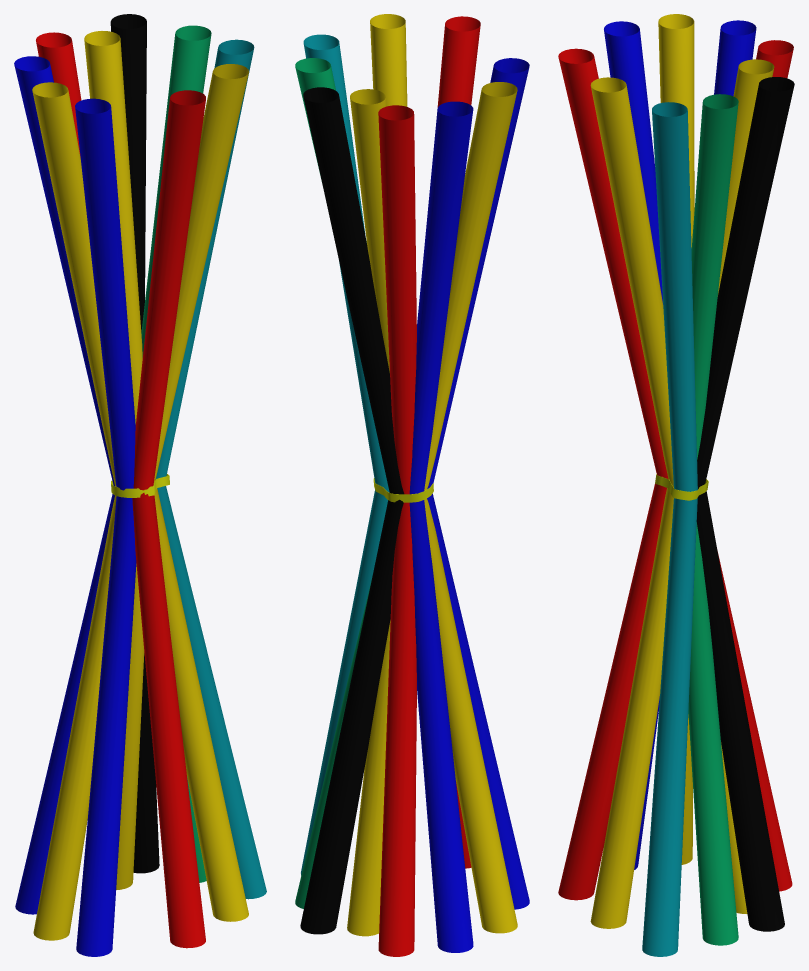
The model's file is Straw.fbx.
3 views of the same model, side by side, from view 1: azimuth 30°, elevation 25°; view 2: azimuth 150°, elevation 25°; view 3: azimuth 270°, elevation 25° (orthographic).
Parts seen in each view (by area): view 1: pCylinder1, pCylinder6, pCylinder2, pCylinder5, pCylinder10, pCylinder9, pCylinder7, pCylinder8, pCylinder3, pCylinder4, pPipe1; view 2: pCylinder7, pCylinder8, pCylinder4, pCylinder5, pCylinder10, pCylinder6, pCylinder9, pCylinder1, pCylinder3, pCylinder2, pPipe1; view 3: pCylinder9, pCylinder8, pCylinder2, pCylinder3, pCylinder1, pCylinder6, pCylinder5, pCylinder10, pCylinder4, pCylinder7, pPipe1.
Part boxes in pixels (bbox=[...]): pCylinder1: bbox=[132, 90, 205, 948]; pCylinder6: bbox=[75, 98, 136, 956]; pCylinder2: bbox=[153, 64, 248, 921]; pCylinder5: bbox=[32, 82, 116, 940]; pCylinder10: bbox=[84, 31, 144, 889]; pCylinder9: bbox=[155, 39, 266, 899]; pCylinder7: bbox=[14, 56, 114, 914]; pCylinder8: bbox=[110, 14, 159, 873]; pCylinder3: bbox=[141, 25, 211, 882]; pCylinder4: bbox=[36, 32, 81, 157]; pPipe1: bbox=[111, 474, 169, 497]; pCylinder7: bbox=[409, 101, 473, 952]; pCylinder8: bbox=[300, 87, 404, 934]; pCylinder4: bbox=[378, 105, 416, 956]; pCylinder5: bbox=[424, 82, 517, 933]; pCylinder10: bbox=[347, 89, 390, 936]; pCylinder6: bbox=[427, 58, 529, 909]; pCylinder9: bbox=[301, 34, 389, 875]; pCylinder1: bbox=[437, 16, 480, 868]; pCylinder3: bbox=[295, 58, 371, 908]; pCylinder2: bbox=[370, 14, 407, 106]; pPipe1: bbox=[373, 478, 433, 502]; pCylinder9: bbox=[642, 102, 697, 956]; pCylinder8: bbox=[696, 77, 794, 931]; pCylinder2: bbox=[590, 77, 673, 928]; pCylinder3: bbox=[688, 94, 738, 945]; pCylinder1: bbox=[558, 48, 668, 900]; pCylinder6: bbox=[604, 21, 663, 869]; pCylinder5: bbox=[658, 14, 694, 864]; pCylinder10: bbox=[717, 59, 774, 913]; pCylinder4: bbox=[717, 40, 793, 891]; pCylinder7: bbox=[714, 20, 756, 95]; pPipe1: bbox=[655, 474, 708, 500].
Bounding box in the file's own units: 1.78 × 6.54 × 1.66.
